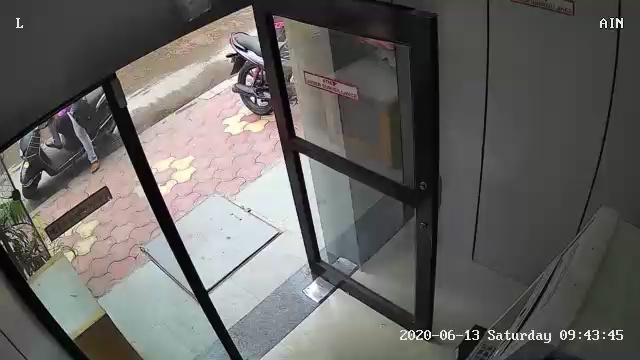open: (97, 2, 454, 347)
